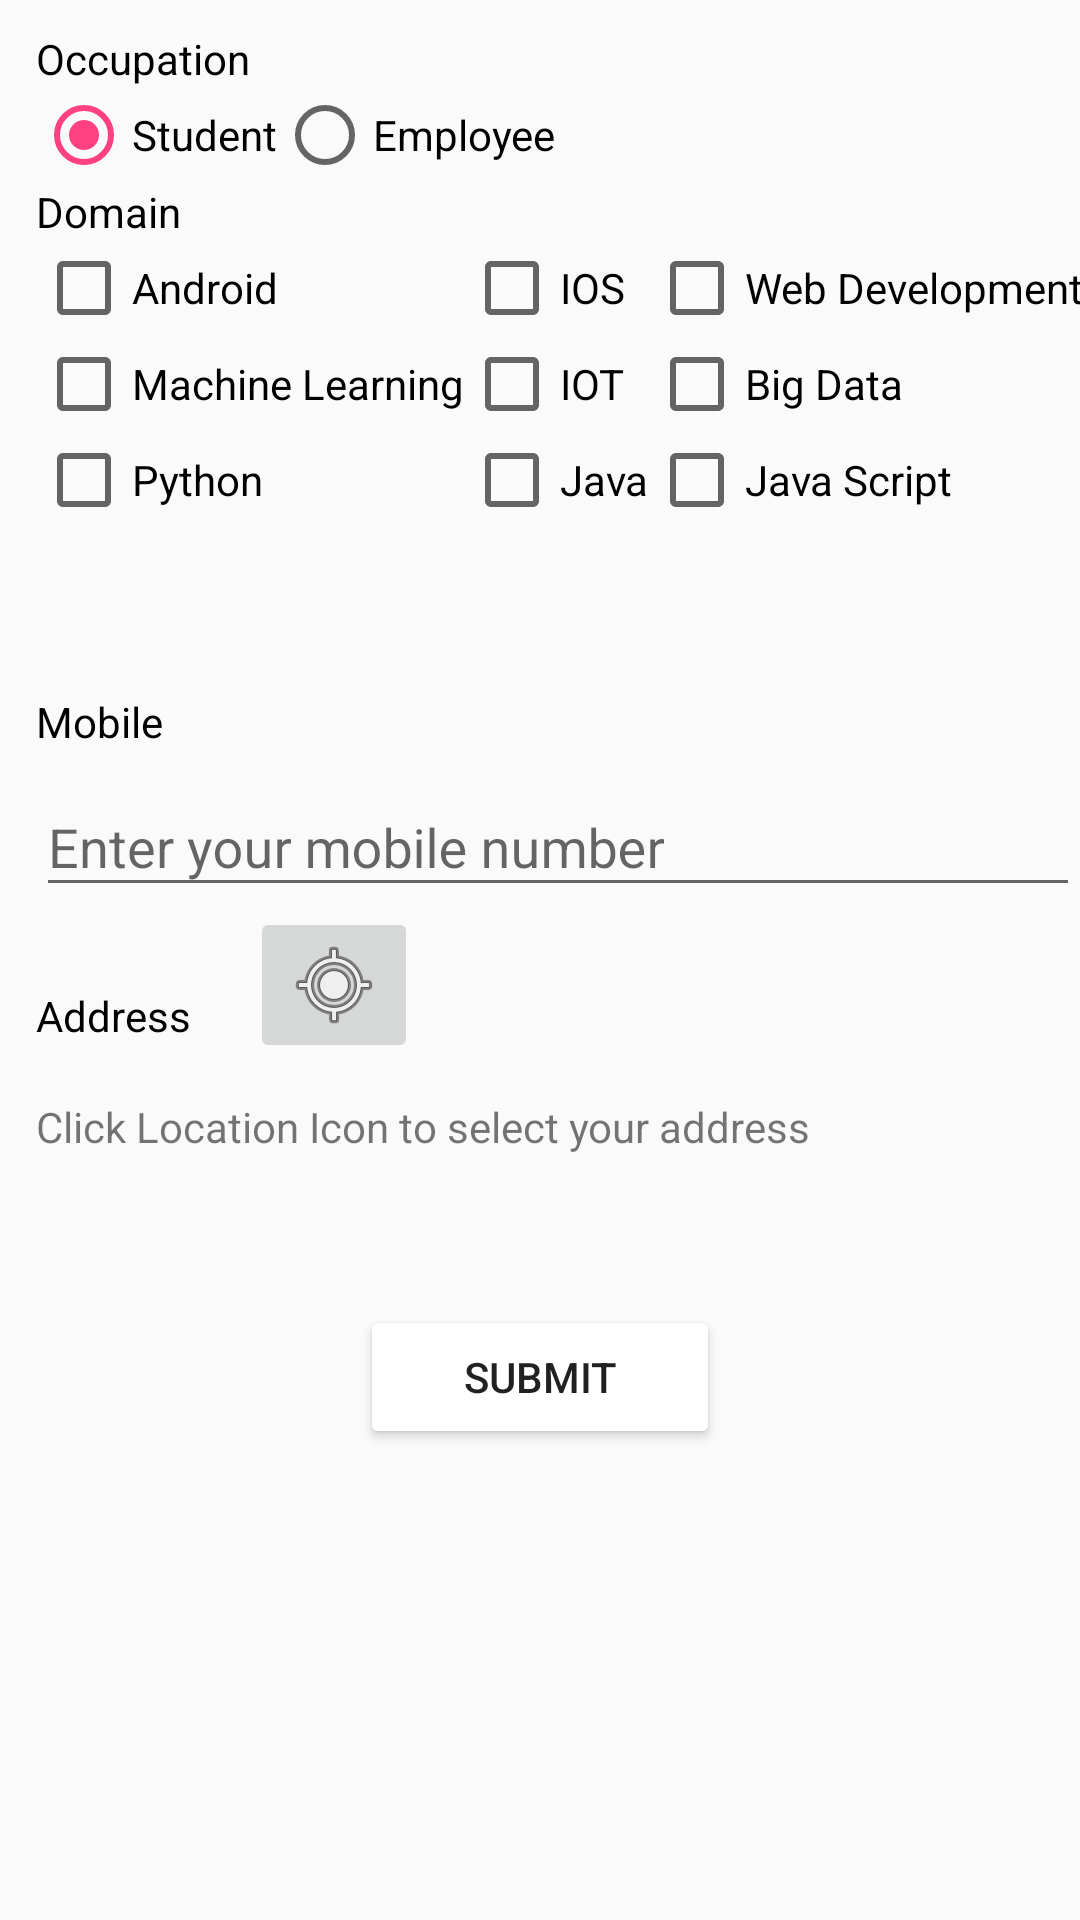

Point at icon controls on the screen. Image size 1080×1920, points as point (x, y).
mylocation: point (334, 985)
